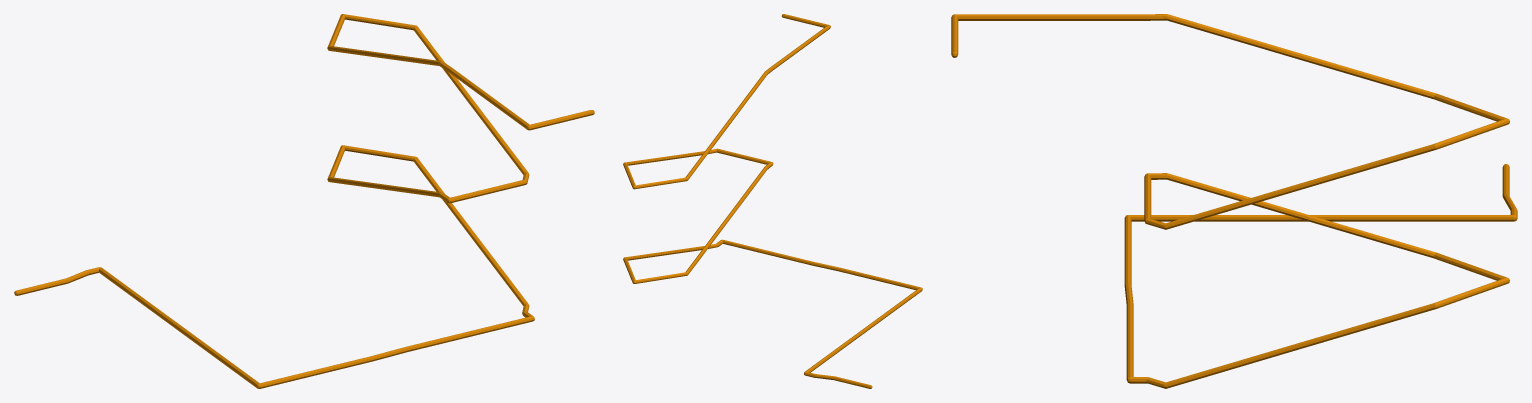
3 renders of one model, left to right at view 1: azimuth 30°, elevation 25°; view 2: azimuth 150°, elevation 25°; view 3: azimuth 270°, elevation 25°, orthographic. The views are drawn at different scales.
Size of the model in its own units: 1492 by 1020 by 1614.
